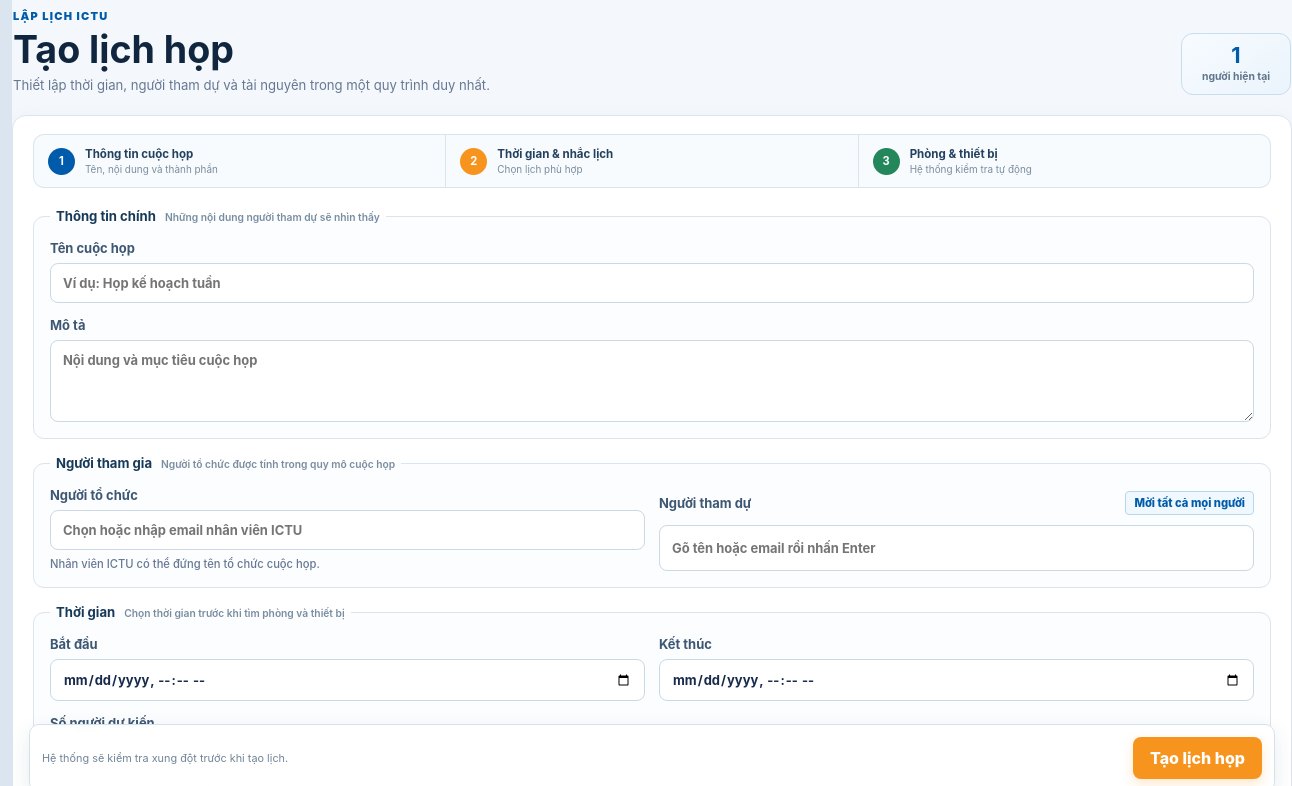
Scenario: MeetingForm room-aware creation › invites all ICTU employees except the organizer
Type "leader@example.com" into the field labelled "Người tổ chức" at (348, 530), box [50, 510, 645, 550]
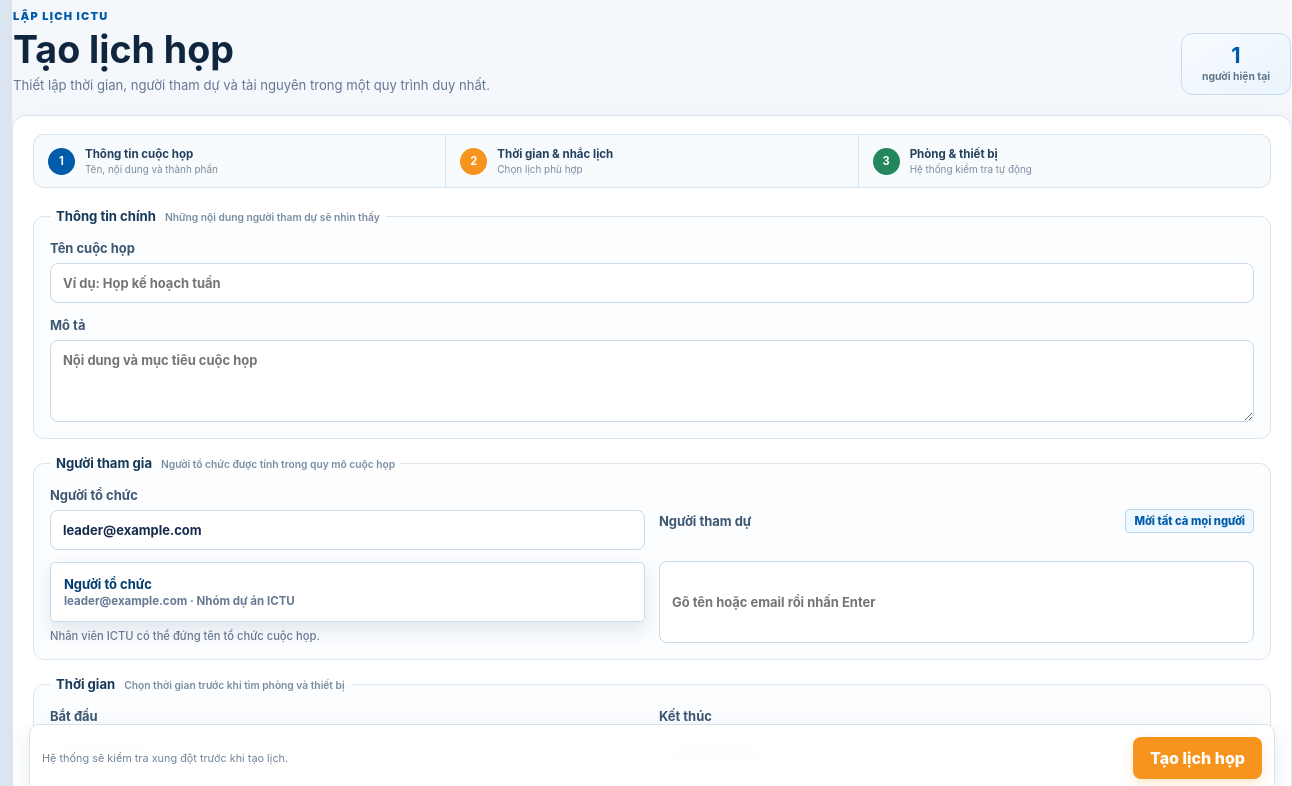
Click the button "Mời tất cả mọi người" at (1190, 521), box [1125, 509, 1254, 533]
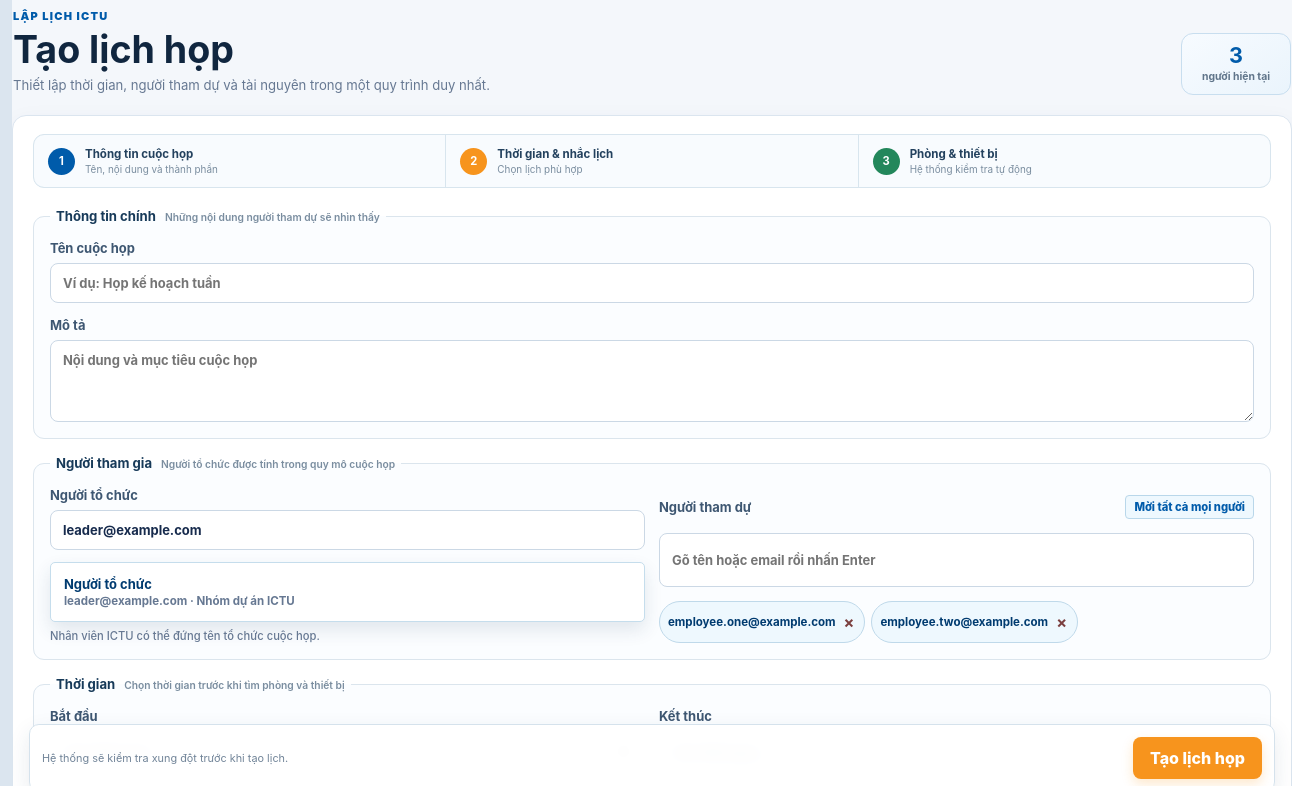
Expected: the text "employee.one@example.com" is shown, [668, 615, 836, 629]
Expected: the text "employee.two@example.com" is shown, [880, 615, 1048, 629]
